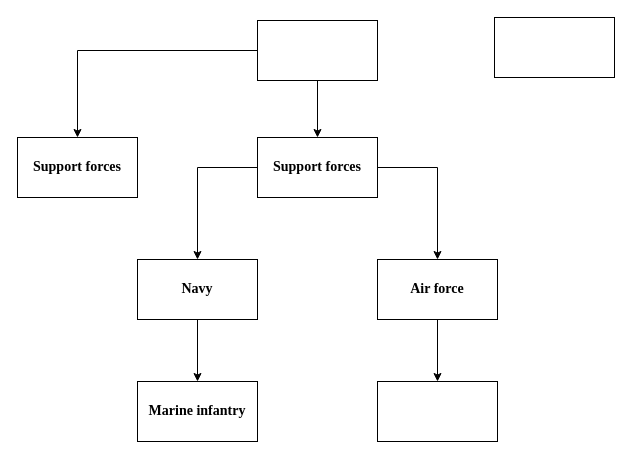
This 632x459 diagram has some shape labels left out. The shapes that lost their labels are listed below. From the top down, each one's centre as x and y in pixels, then its label:
At pixel 317 50: "Armed forces".
At pixel 554 47: "National Guard".
At pixel 437 411: "Airborne infantry".
